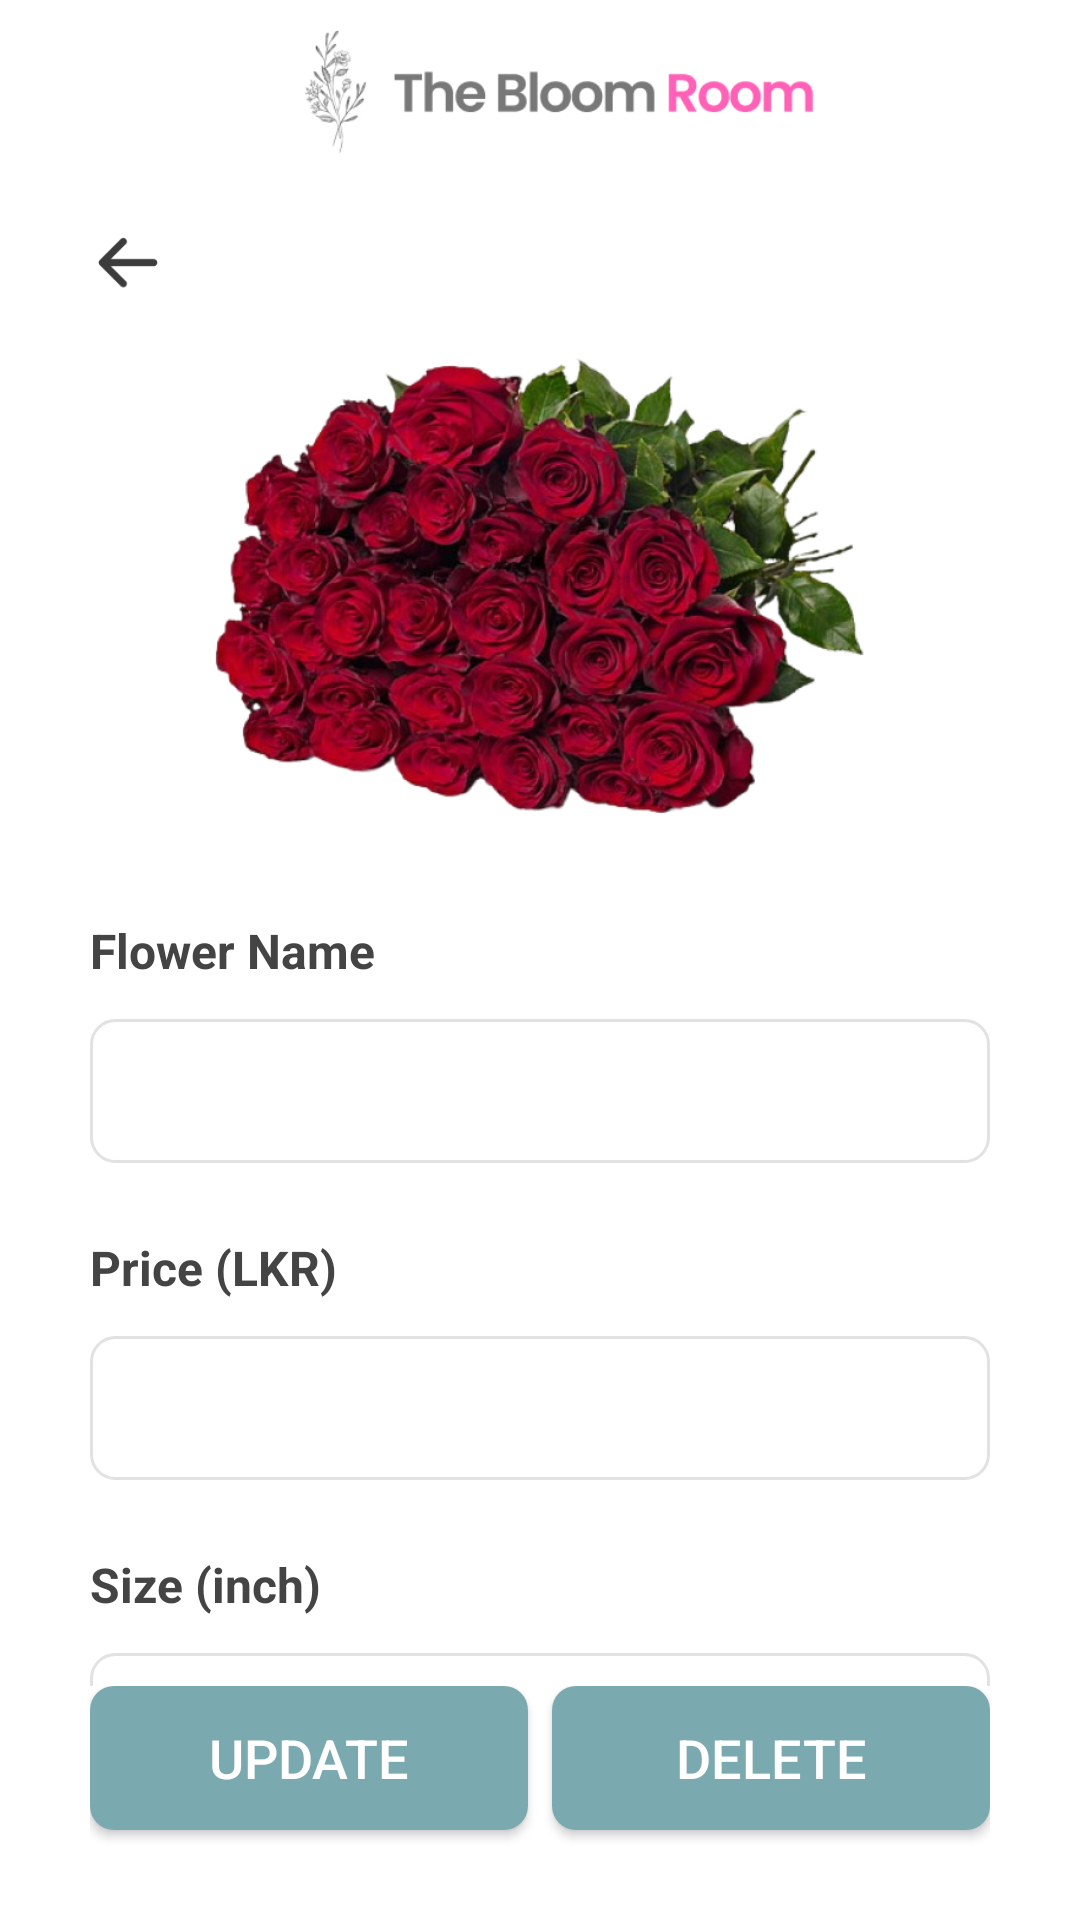

Screen size 1080*1920. Icon name, then its box in pixels as Rect(x1, y1, x2, y2):
back: Rect(98, 237, 158, 288)
